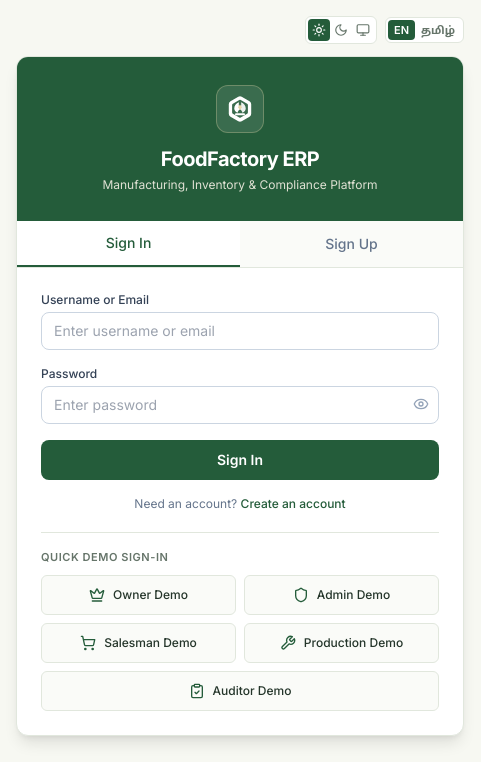
Public Sign Up UI Suite › 7. Renders 5 demo accounts when enabled, autofills without auto-submit, and hides when disabled
The image size is (481, 762).
Expected: the button "Admin Demo" is shown, [244, 575, 439, 615]
Expected: the button "Salesman Demo" is shown, [41, 623, 236, 663]
Click the button "Owner Demo" at (138, 595), box [41, 575, 236, 615]
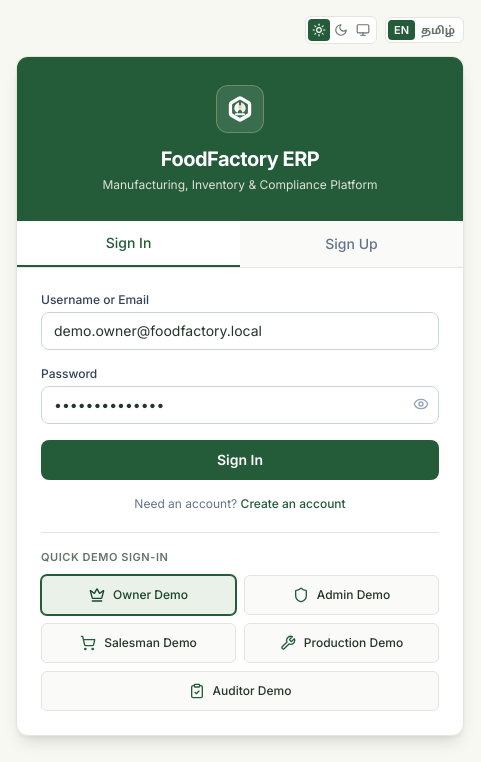
Expected: the field labelled "Username or Email" holds "demo.owner@foodfactory.local", [41, 312, 439, 350]
Expected: the password field labelled "Password" holds "DemoPassword1!", [41, 386, 439, 424]
Click the button "Admin Demo" at (342, 595), box [244, 575, 439, 615]
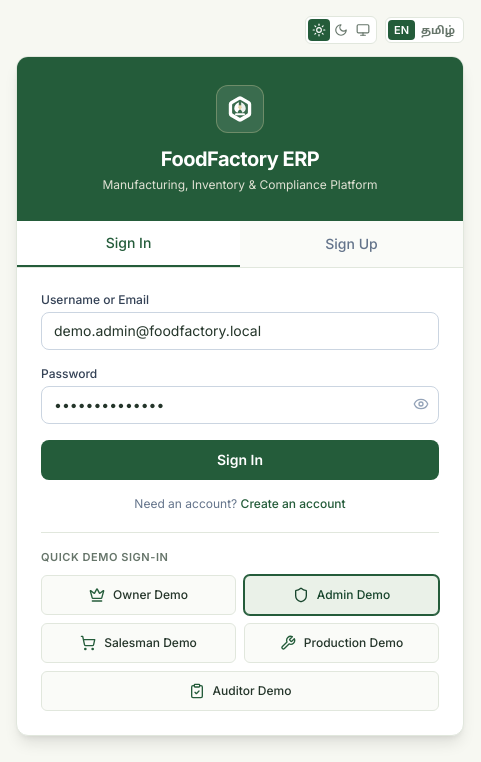
Expected: the password field labelled "Password" holds "DemoPassword1!", [41, 386, 439, 424]
Expected: the field labelled "Username or Email" holds "demo.admin@foodfactory.local", [41, 312, 439, 350]
Click the button "Salesman Demo" at (138, 643), box [41, 623, 236, 663]
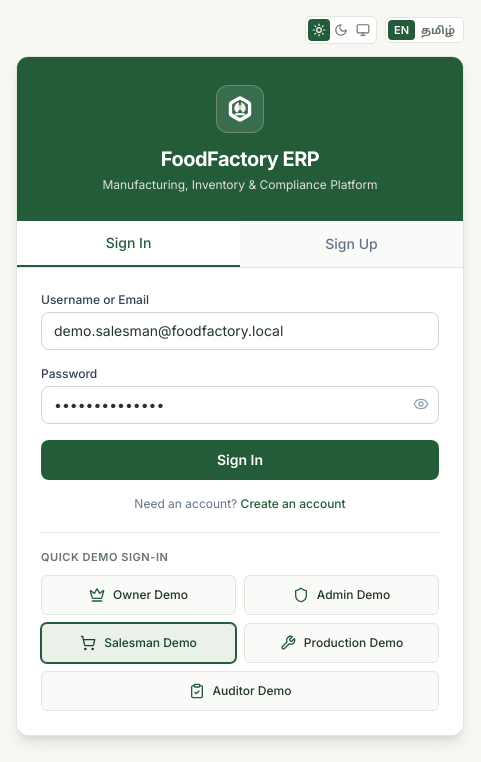
Expected: the password field labelled "Password" holds "DemoPassword1!", [41, 386, 439, 424]
Expected: the field labelled "Username or Email" holds "demo.salesman@foodfactory.local", [41, 312, 439, 350]
Click the button "Production Demo" at (342, 643), box [244, 623, 439, 663]
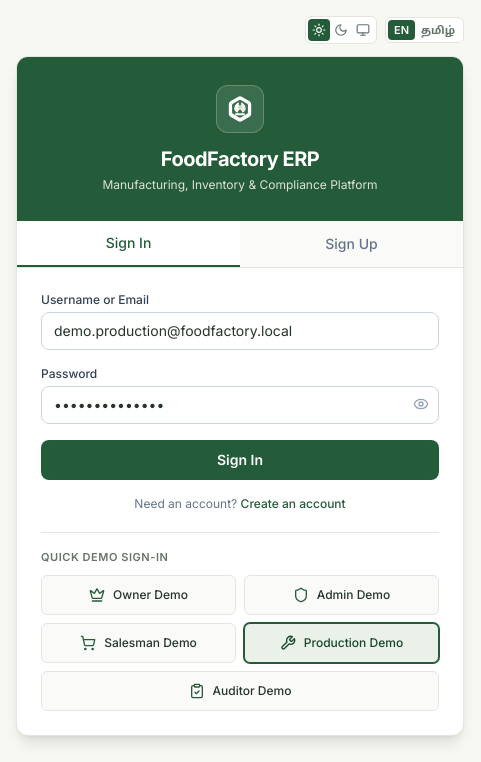
Expected: the password field labelled "Password" holds "DemoPassword1!", [41, 386, 439, 424]
Expected: the field labelled "Username or Email" holds "demo.production@foodfactory.local", [41, 312, 439, 350]
Click the button "Auditor Demo" at (240, 691), box [41, 671, 439, 711]
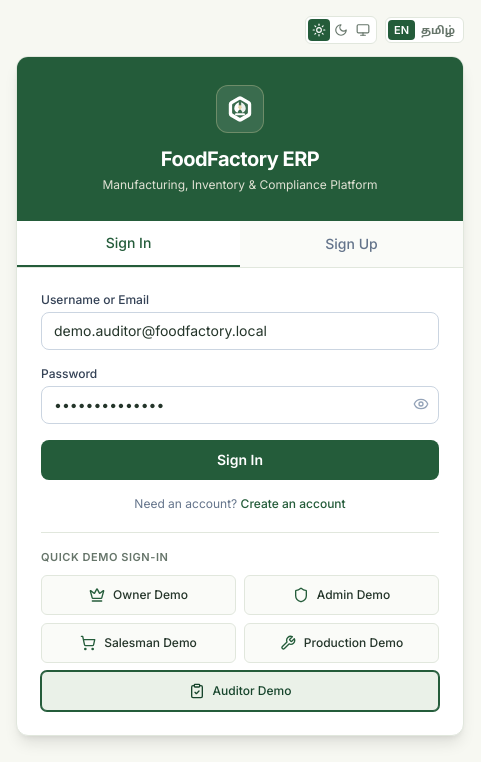
Expected: the password field labelled "Password" holds "DemoPassword1!", [41, 386, 439, 424]
Expected: the field labelled "Username or Email" holds "demo.auditor@foodfactory.local", [41, 312, 439, 350]
